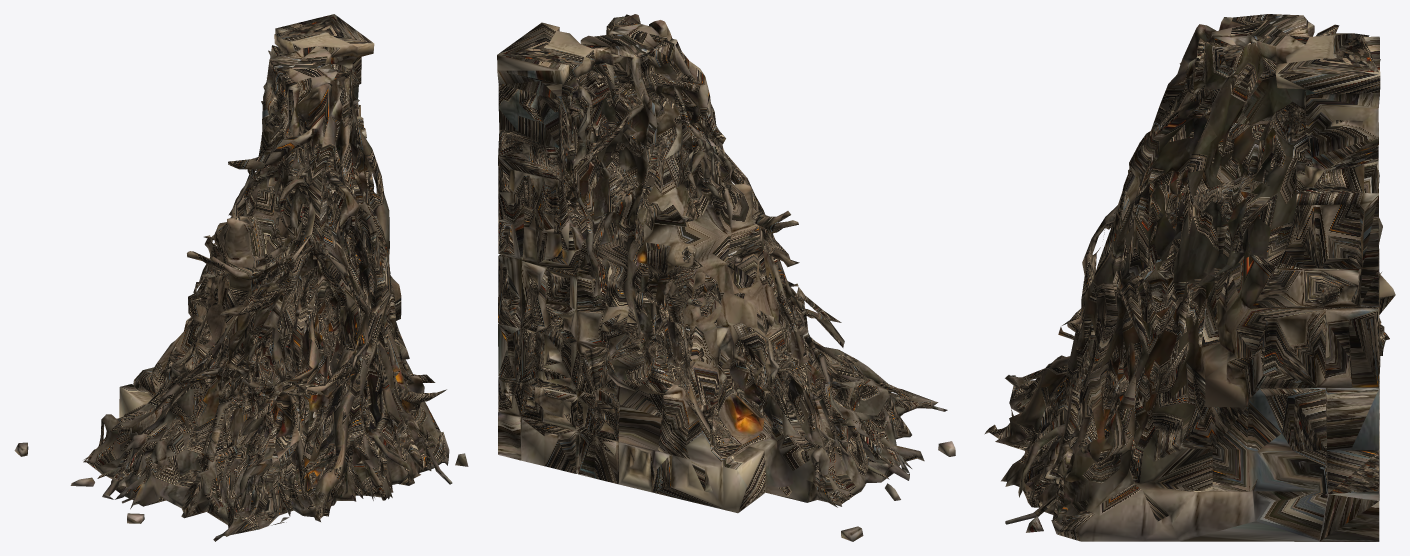
Rendered from Highly_detailed_ancie.glb.
The picture shows the model from 3 angles, left to right: view 1: azimuth 30°, elevation 25°; view 2: azimuth 150°, elevation 25°; view 3: azimuth 270°, elevation 25°; orthographic projection. The views are drawn at different scales.
Parts seen in each view (by area): view 1: Highly_detailed_ancie; view 2: Highly_detailed_ancie; view 3: Highly_detailed_ancie.
Boxes of the visible parts, x1,y1,x2,y2 form: Highly_detailed_ancie: (14,14,468,541); Highly_detailed_ancie: (497,14,955,541); Highly_detailed_ancie: (984,14,1395,541).
Bounding box in the file's own units: 1.87 × 2 × 1.59.
1 material, 1 textured.
